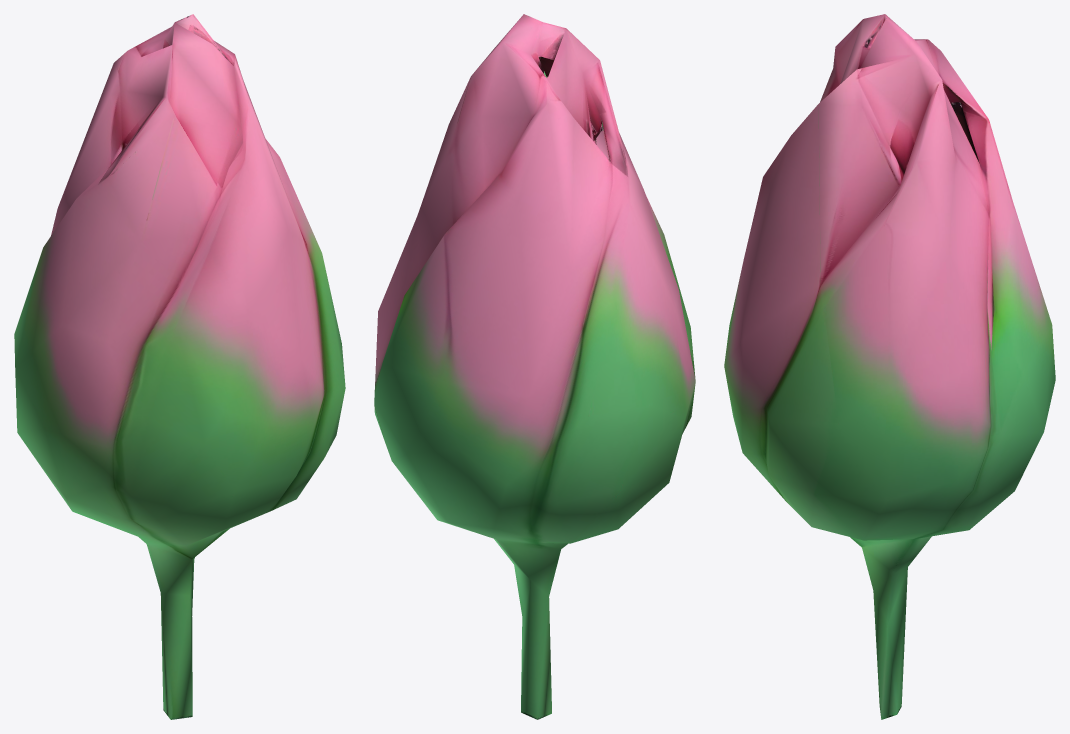
Rendered from flower-bud.glb.
The picture shows the model from 3 angles, left to right: view 1: azimuth 30°, elevation 25°; view 2: azimuth 150°, elevation 25°; view 3: azimuth 270°, elevation 25°; orthographic projection.
Bounding box in the file's own units: 0.8512 × 2.02 × 0.863.
1 material, 1 textured.
